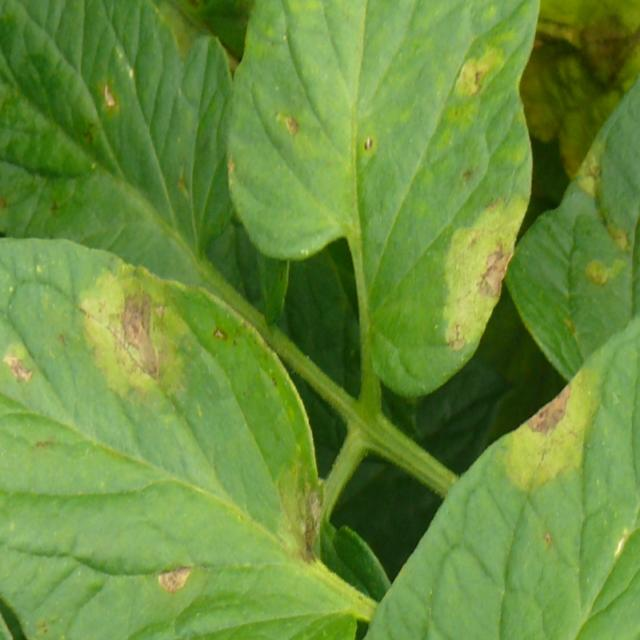Early_blight: (81, 265, 197, 397), (444, 191, 531, 354), (501, 371, 596, 492), (280, 469, 327, 565), (452, 46, 500, 102), (3, 346, 39, 386), (576, 150, 604, 200), (154, 561, 194, 595), (588, 257, 625, 286), (603, 218, 630, 252), (276, 108, 301, 138), (99, 82, 121, 111)
